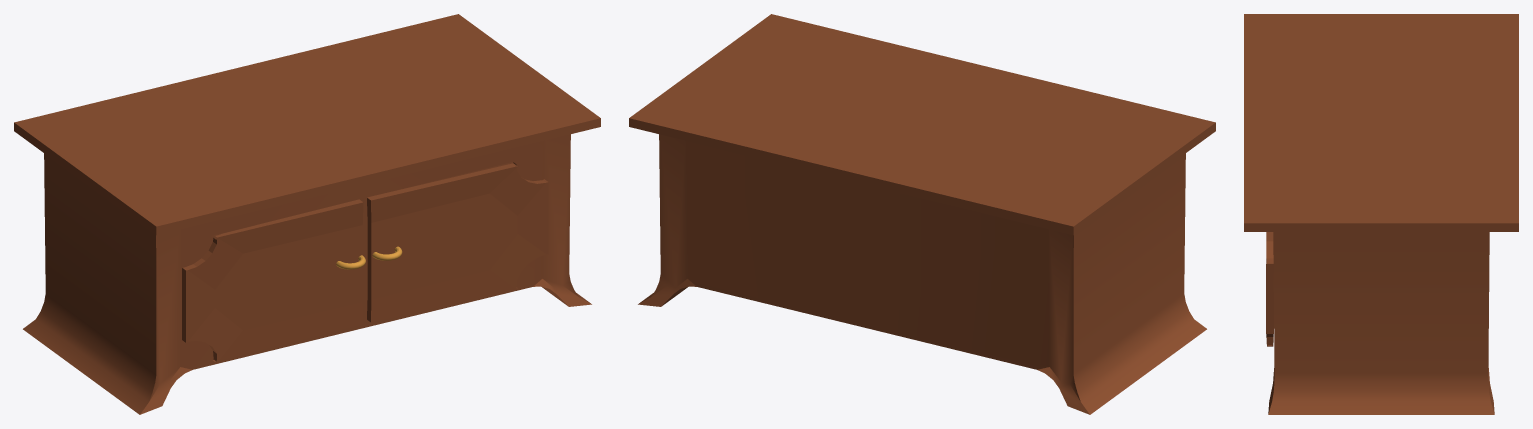
File: SM_Table.fbx
3 renders of one model, left to right at view 1: azimuth 30°, elevation 25°; view 2: azimuth 150°, elevation 25°; view 3: azimuth 270°, elevation 25°, orthographic. The views are drawn at different scales.
Parts seen in each view (by area): view 1: SM_Table; view 2: SM_Table; view 3: SM_Table.
Boxes of the visible parts, x1,y1,x2,y2 form: SM_Table: (14, 14, 600, 414); SM_Table: (629, 14, 1215, 414); SM_Table: (1244, 14, 1518, 414).
Bounding box in the file's own units: 256 × 106 × 140.
